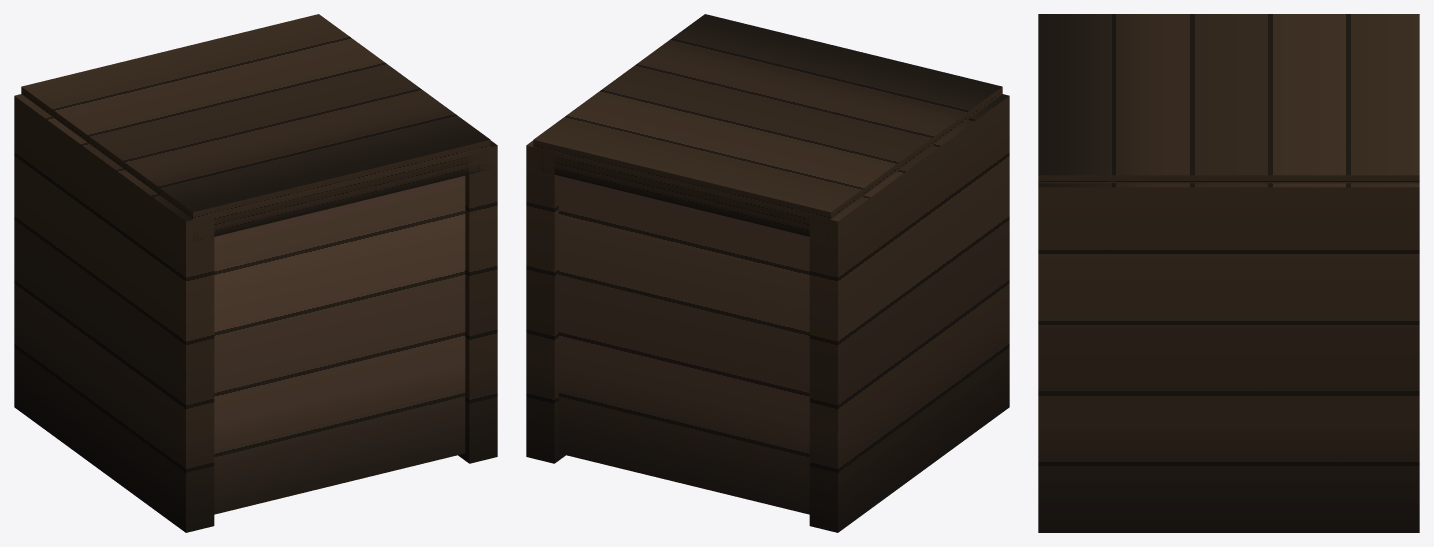
File: crate.gltf
The picture shows the model from 3 angles, left to right: view 1: azimuth 30°, elevation 25°; view 2: azimuth 150°, elevation 25°; view 3: azimuth 270°, elevation 25°; orthographic projection. The views are drawn at different scales.
Parts seen in each view (by area): view 1: crate; view 2: crate; view 3: crate.
Boxes of the visible parts, x1,y1,x2,y2 form: crate: (14, 14, 497, 532); crate: (526, 14, 1009, 532); crate: (1038, 14, 1419, 532).
Size of the model in its own units: 0.44 by 0.43 by 0.42.
Materials: 1 (1 with a texture image).
